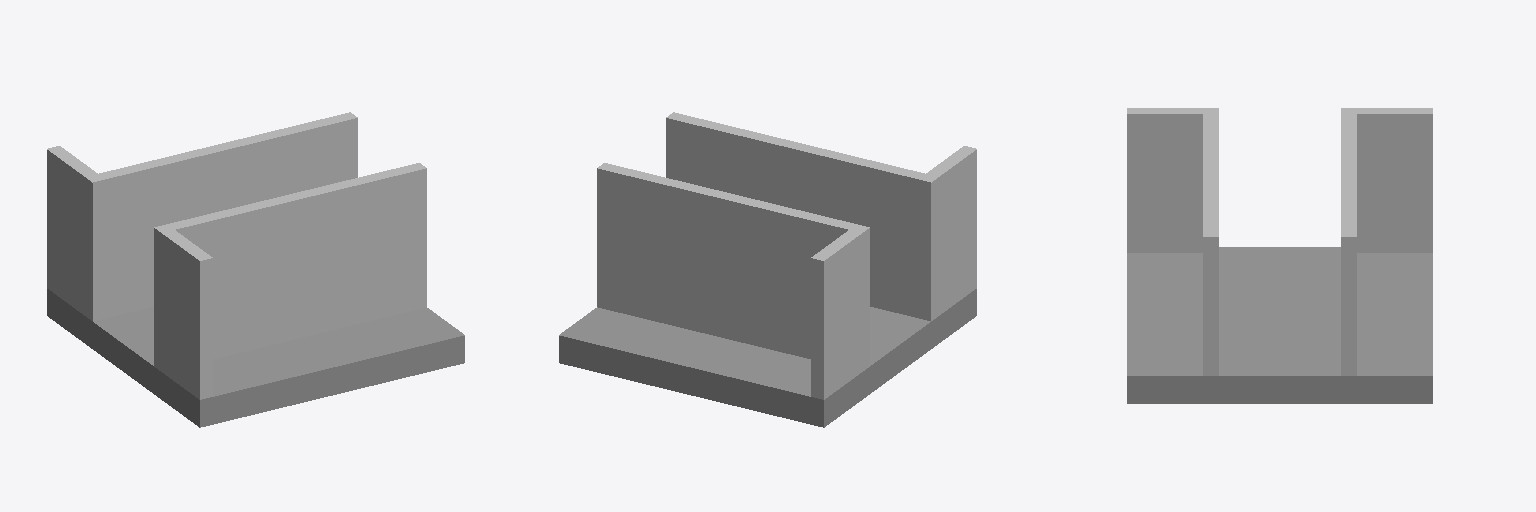
File: hallway-thin_to-big-room_1.obj
3 views of the same model, side by side, from view 1: azimuth 30°, elevation 25°; view 2: azimuth 150°, elevation 25°; view 3: azimuth 270°, elevation 25° (orthographic).
Visible parts, largest first — view 1: Cube.002, Cube.001_Cube.006, Cube, Cube.004_Cube.003, Cube.003_Cube.001; view 2: Cube.001_Cube.006, Cube.002, Cube, Cube.003_Cube.001, Cube.004_Cube.003; view 3: Cube, Cube.004_Cube.003, Cube.003_Cube.001, Cube.001_Cube.006, Cube.002.
Part boxes in pixels (x1,y1,x2,y2): Cube.002: (154, 163, 426, 371); Cube.001_Cube.006: (85, 112, 357, 320); Cube: (47, 289, 464, 427); Cube.004_Cube.003: (162, 230, 212, 399); Cube.003_Cube.001: (47, 146, 97, 315); Cube.001_Cube.006: (597, 163, 869, 371); Cube.002: (666, 112, 938, 320); Cube: (559, 289, 976, 427); Cube.003_Cube.001: (811, 230, 861, 399); Cube.004_Cube.003: (926, 146, 976, 315); Cube: (1127, 247, 1432, 403); Cube.004_Cube.003: (1127, 108, 1202, 252); Cube.003_Cube.001: (1357, 108, 1432, 252); Cube.001_Cube.006: (1341, 108, 1356, 375); Cube.002: (1203, 108, 1218, 375).
Bounding box in the file's own units: 10 × 6 × 10.